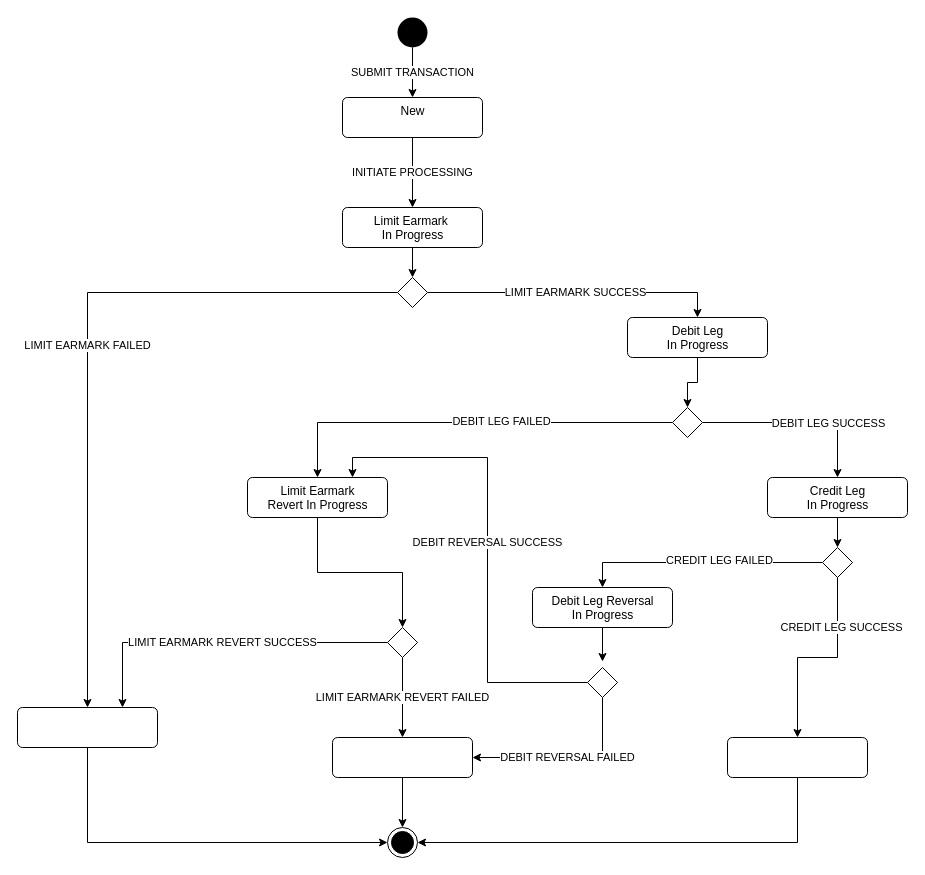
This 925x875 diagram has some shape labels left out. The box of each missing label's shape, as (x1, y1, x2, y2) in pixels:
Manual Intervention Required (DLQ): (332, 736, 472, 778)
Transaction Failed: (16, 706, 158, 748)
Transaction Successful: (726, 736, 868, 778)
